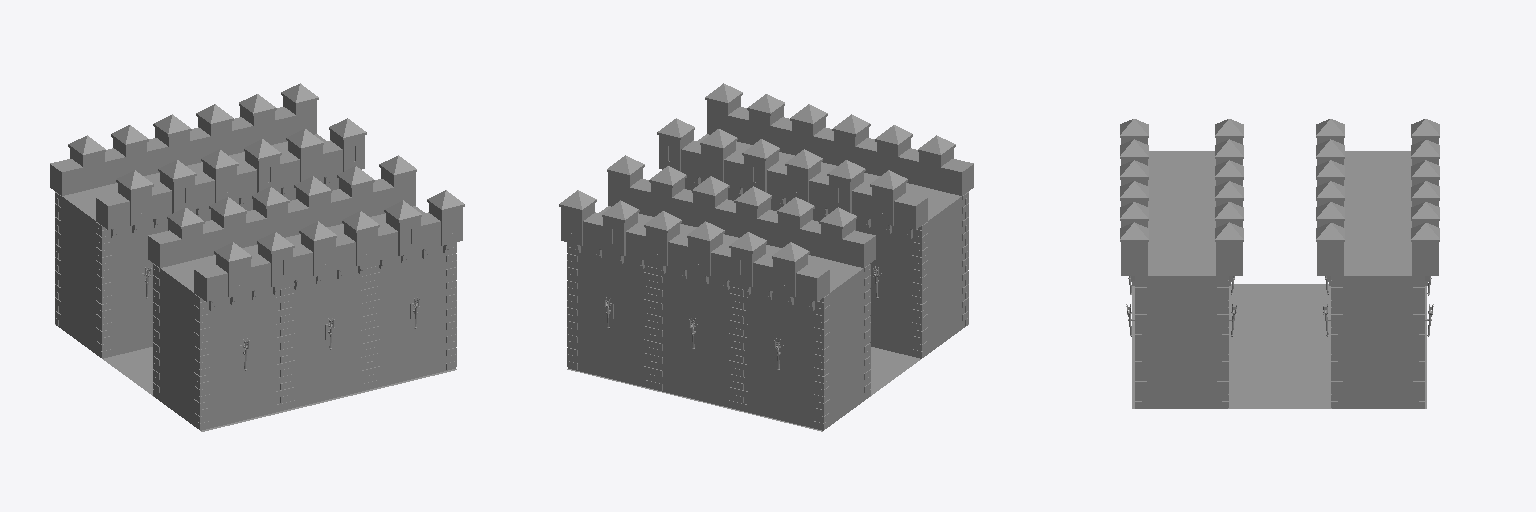
The model's file is StraightPiece.obj.
3 renders of one model, left to right at view 1: azimuth 30°, elevation 25°; view 2: azimuth 150°, elevation 25°; view 3: azimuth 270°, elevation 25°, orthographic.
Visible parts, largest first — view 1: Cube.006_Cube.007, Cube.005_Cube.006, Cube.003_Cube.004, Cube.002_Cube.003, Cube.004_Cube.005, Cube.001_Cube.002, Plane.001; view 2: Cube.005_Cube.006, Cube.006_Cube.007, Cube.004_Cube.005, Cube.001_Cube.002, Cube.003_Cube.004, Cube.002_Cube.003, Plane.001; view 3: Cube.004_Cube.005, Cube.003_Cube.004, Plane.001, Cube.005_Cube.006, Cube.006_Cube.007, Cube.001_Cube.002, Cube.002_Cube.003.
Boxes of the visible parts, <box> form: Cube.006_Cube.007: <box>148,197,294,430</box>; Cube.005_Cube.006: <box>50,125,196,358</box>; Cube.003_Cube.004: <box>330,155,464,388</box>; Cube.002_Cube.003: <box>245,176,379,409</box>; Cube.004_Cube.005: <box>232,83,366,200</box>; Cube.001_Cube.002: <box>147,104,281,221</box>; Plane.001: <box>55,324,456,431</box>; Cube.005_Cube.006: <box>729,197,875,430</box>; Cube.006_Cube.007: <box>827,125,973,358</box>; Cube.004_Cube.005: <box>559,155,693,388</box>; Cube.001_Cube.002: <box>644,176,778,409</box>; Cube.003_Cube.004: <box>657,83,791,200</box>; Cube.002_Cube.003: <box>742,104,876,221</box>; Plane.001: <box>567,324,968,431</box>; Cube.004_Cube.005: <box>1316,202,1439,408</box>; Cube.003_Cube.004: <box>1120,202,1243,408</box>; Plane.001: <box>1132,284,1426,408</box>; Cube.005_Cube.006: <box>1316,119,1439,192</box>; Cube.006_Cube.007: <box>1120,119,1243,192</box>; Cube.001_Cube.002: <box>1316,160,1439,233</box>; Cube.002_Cube.003: <box>1120,160,1243,233</box>.
Bounding box in the file's own units: 12.1 × 8.16 × 13.06.